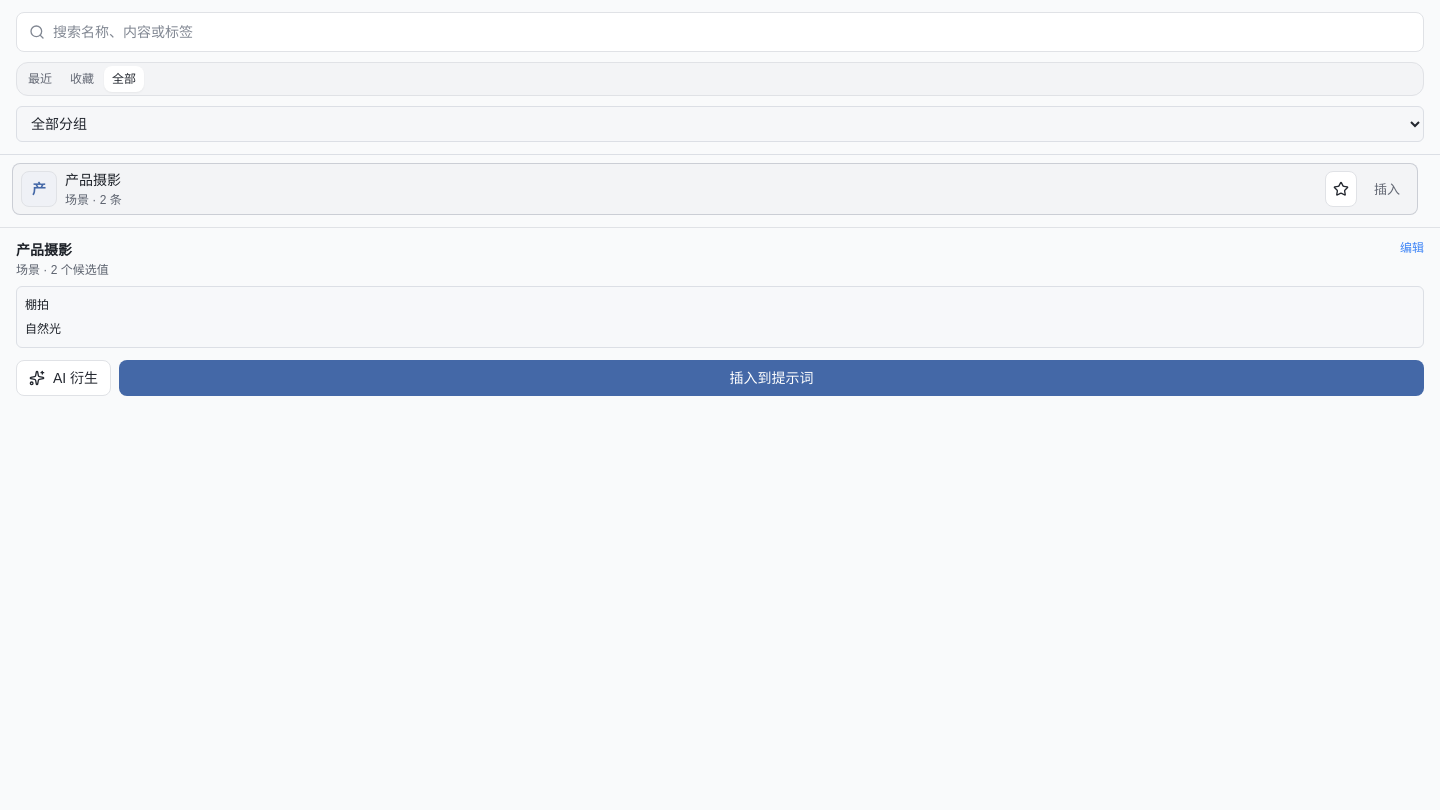
it: WordLibraryQuickPanel AI derivative entry › expands AI derivative controls inside the sidebar without opening management
Click the button "AI 衍生" at (64, 378), box [16,360,111,396]
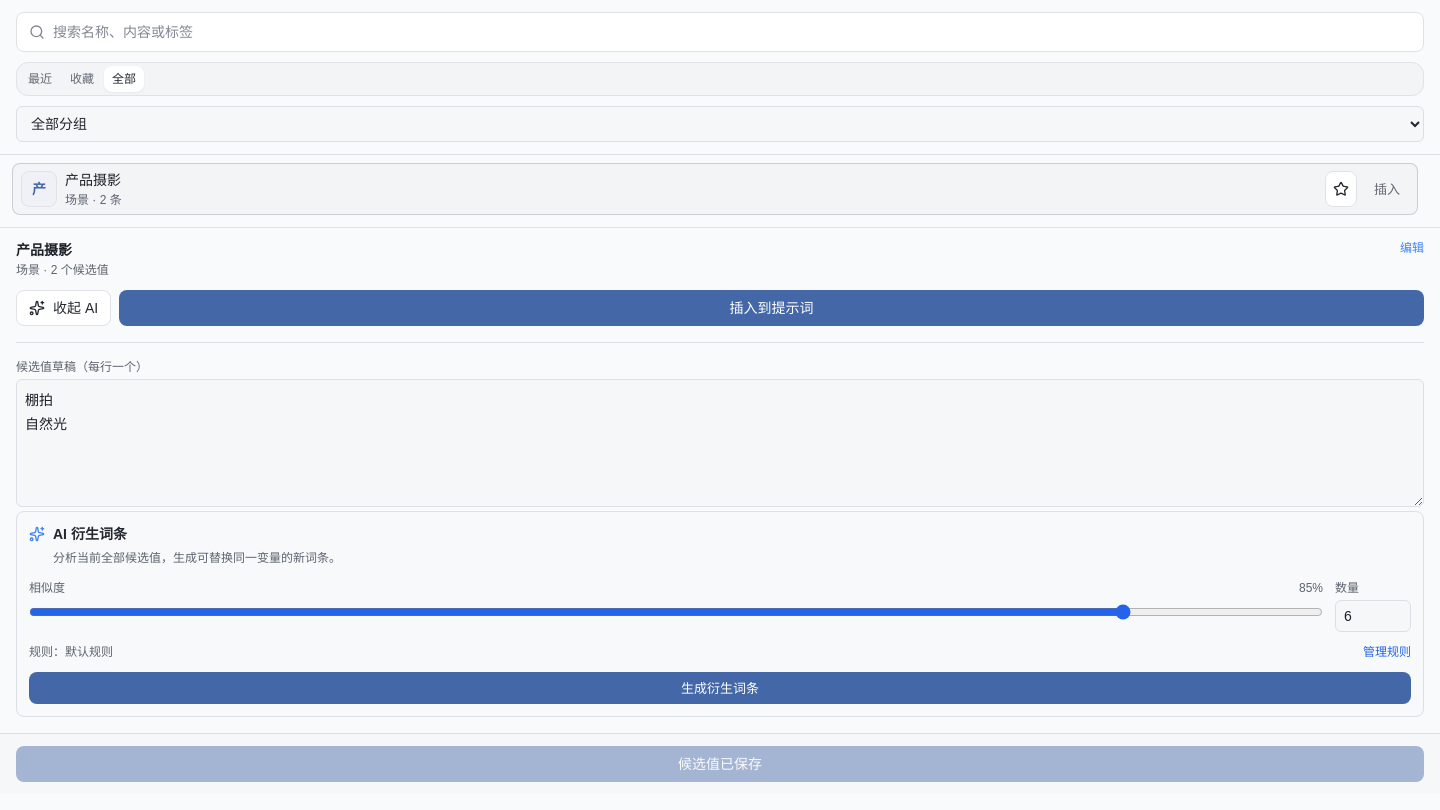
Expected: the element with test id "word-library-ai-derivative" is shown, [16,511,1424,717]
